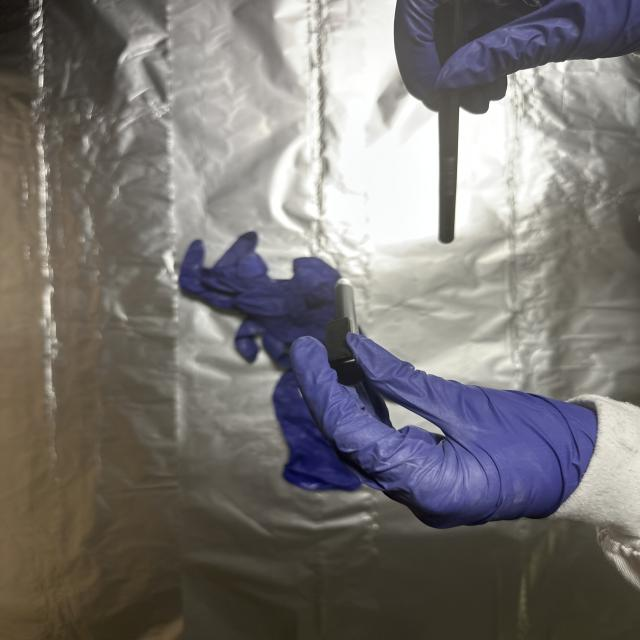gloves_contaminated: (291, 334, 604, 528), (394, 0, 640, 112)
